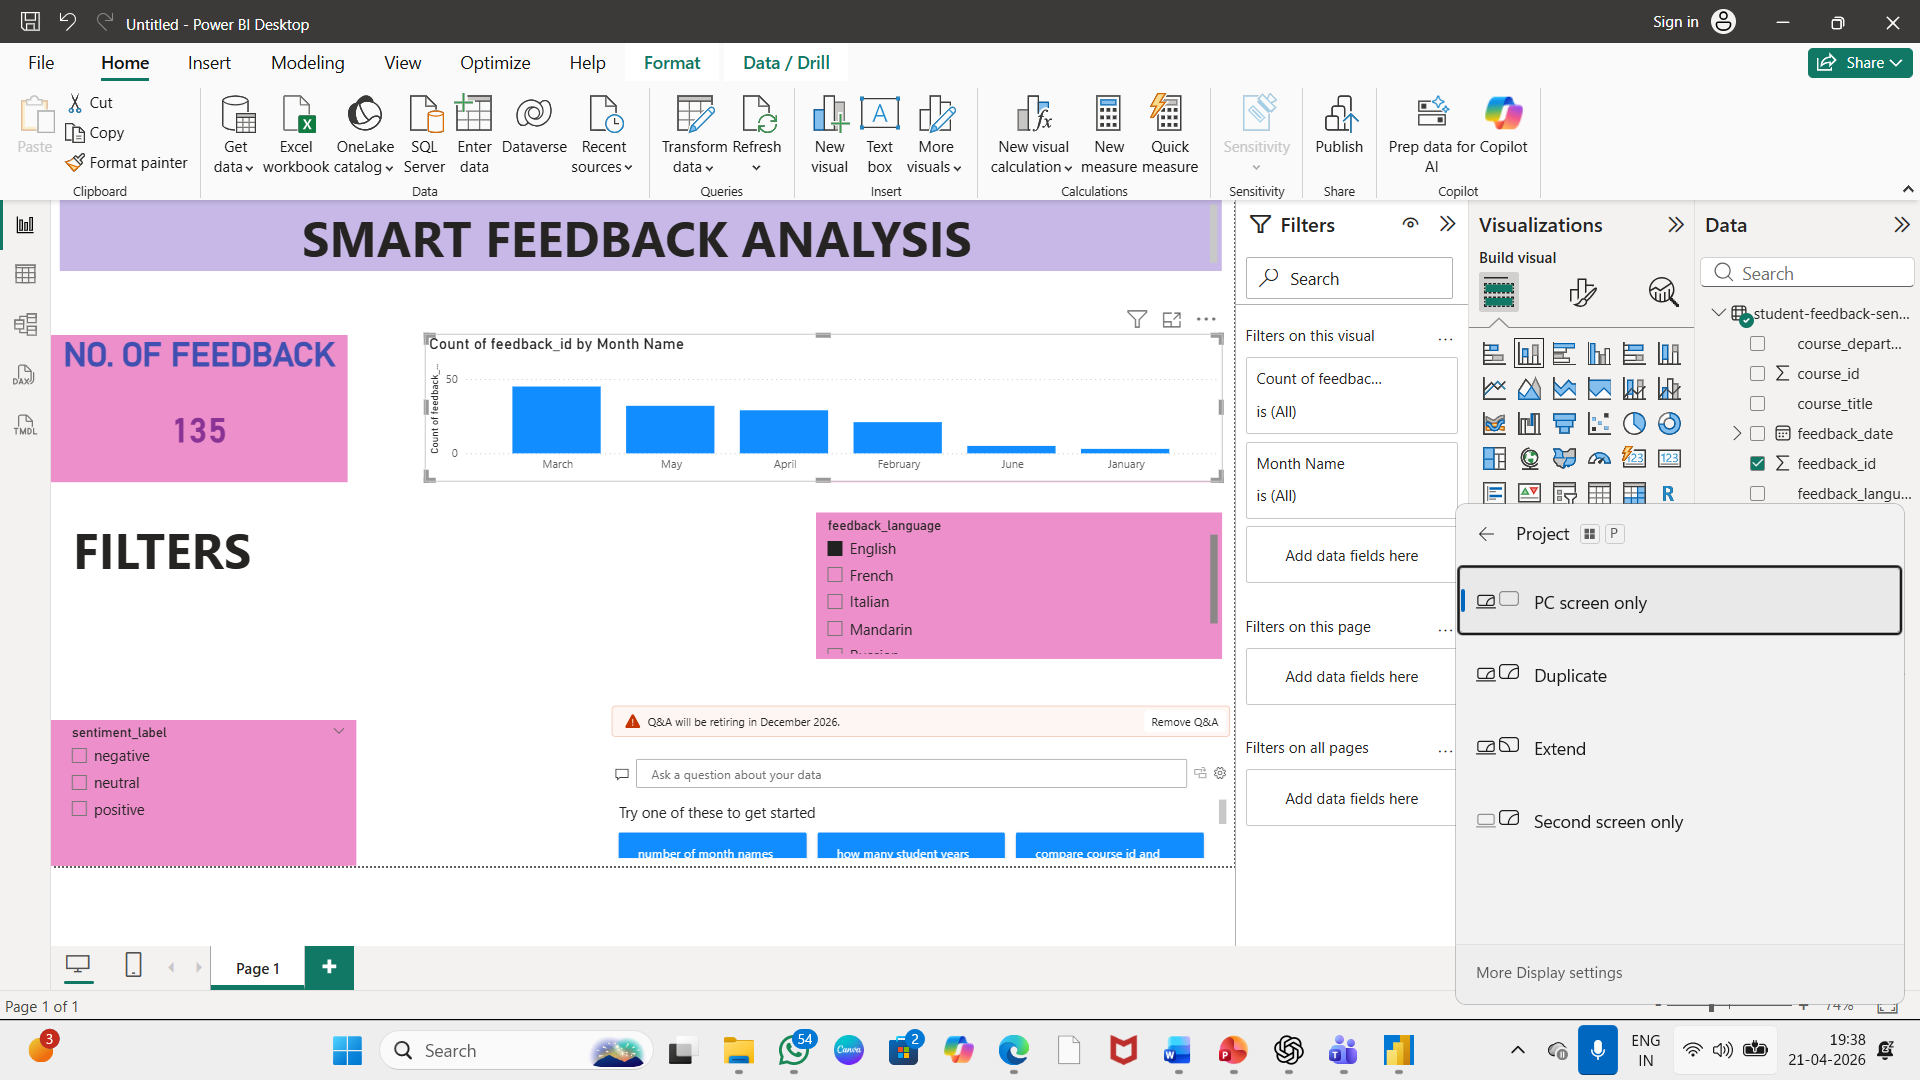

Layout of this report page (visuals, bound fields, positions):
{"tool":"powerbi","page":{"name":"Page 1","canvas":[1280,720],"ordinal":0},"visuals":[{"type":"textbox","box":[9.6,0,1257,76.8],"z":0},{"type":"card","title":"NO. OF FEEDBACK","fields":{"Values":["CountNonNull(student-feedback-sentiment-analysis (1).feedback_id)"]},"box":[0,145.5,321.1,159.2],"z":1000},{"type":"card","title":"Average Sentiments","fields":{"Values":["Avg(student-feedback-sentiment-analysis (1).sentiment_score)"]},"box":[835.7,145.5,430.9,159.2],"z":2000},{"type":"slicer","fields":{"Values":["student-feedback-sentiment-analysis (1).sentiment_label"]},"box":[0,562.6,321.1,157.8],"z":3000},{"type":"qnaVisual","box":[601.6,542.1,678.7,178.5],"z":4000},{"type":"textbox","box":[18.9,336.6,320.4,158.2],"z":5000},{"type":"slicer","fields":{"Values":["student-feedback-sentiment-analysis (1).sentiment_label"]},"box":[0,562.2,321.1,157.8],"z":6000},{"type":"slicer","fields":{"Values":["student-feedback-sentiment-analysis (1).sentiment_label"]},"box":[10,562.2,321.1,157.8],"z":7000},{"type":"slicer","fields":{"Values":["student-feedback-sentiment-analysis (1).feedback_language"]},"box":[827.4,338,439.4,158.2],"z":8000},{"type":"columnChart","fields":{"Category":["student-feedback-sentiment-analysis (1).Month Name"],"Y":["CountNonNull(student-feedback-sentiment-analysis (1).feedback_id)"]},"box":[404.2,144.7,862.5,159.5],"z":9000}]}

Visuals, with their boxes on the page's 1280x720 design canvas (x1, y1, x2, y2). These are canvas units, not pixel positions in the 1920x1080 screenshot, which may show the page scaled, cropped or inside an application window:
textbox: (10,0,1267,77)
"NO. OF FEEDBACK" card: (0,146,321,305)
"Average Sentiments" card: (836,146,1267,305)
slicer - student-feedback-sentiment-analysis (1).sentiment_label: (0,563,321,720)
qnaVisual: (602,542,1280,721)
textbox: (19,337,339,495)
slicer - student-feedback-sentiment-analysis (1).sentiment_label: (0,562,321,720)
slicer - student-feedback-sentiment-analysis (1).sentiment_label: (10,562,331,720)
slicer - student-feedback-sentiment-analysis (1).feedback_language: (827,338,1267,496)
columnChart - student-feedback-sentiment-analysis (1).Month Name x CountNonNull(student-feedback-sentiment-analysis (1).feedback_id): (404,145,1267,304)
